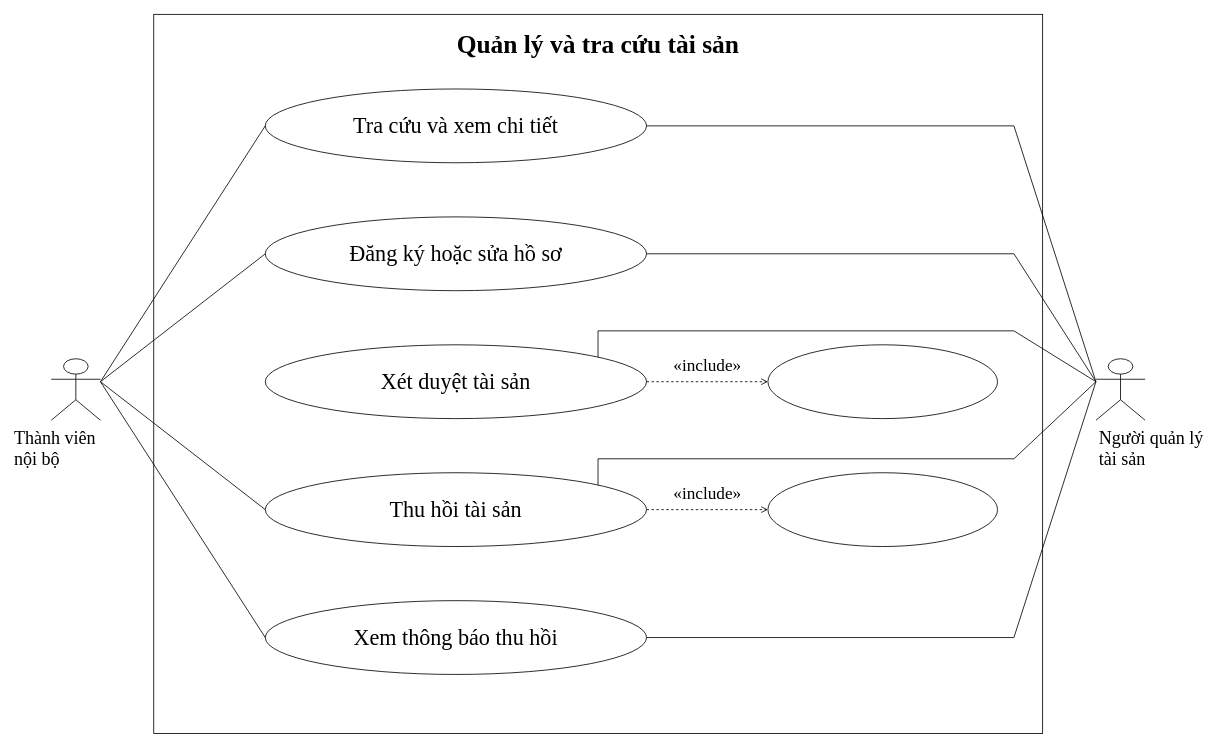
The diagram is 1229 pixels wide and 748 high, and some of its shapes have lost their labels. Each missing label, with the centre of its shape:
Kiểm tra đơn vị và trạng thái: the point at 882,381
Xử lý phiếu chưa bàn giao: the point at 882,509
